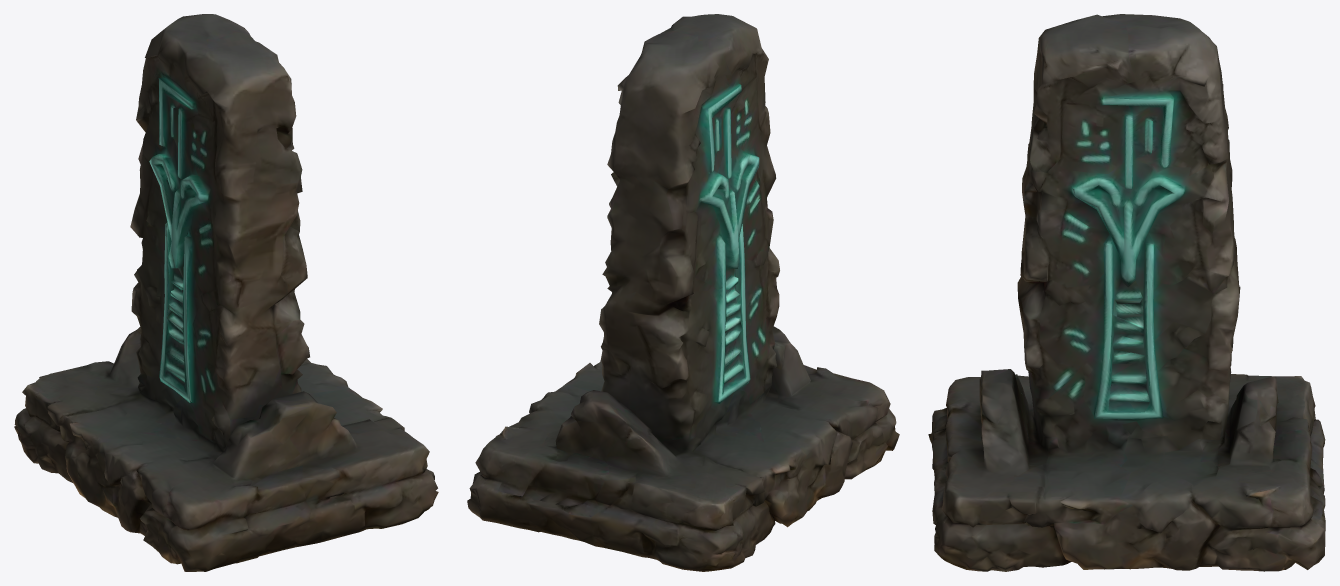
The model's file is rune.glb.
3 renders of one model, left to right at view 1: azimuth 30°, elevation 25°; view 2: azimuth 150°, elevation 25°; view 3: azimuth 270°, elevation 25°, orthographic. The views are drawn at different scales.
Visible parts, largest first — view 1: tripo_node_dbe84365-815a-432d-8e87-e179a16ed361; view 2: tripo_node_dbe84365-815a-432d-8e87-e179a16ed361; view 3: tripo_node_dbe84365-815a-432d-8e87-e179a16ed361.
Part boxes in pixels (bbox=[...]): tripo_node_dbe84365-815a-432d-8e87-e179a16ed361: bbox=[14, 14, 438, 571]; tripo_node_dbe84365-815a-432d-8e87-e179a16ed361: bbox=[467, 14, 899, 571]; tripo_node_dbe84365-815a-432d-8e87-e179a16ed361: bbox=[928, 14, 1325, 571].
Bounding box in the file's own units: 0.6162 × 1 × 0.755.
1 material, 1 textured.
